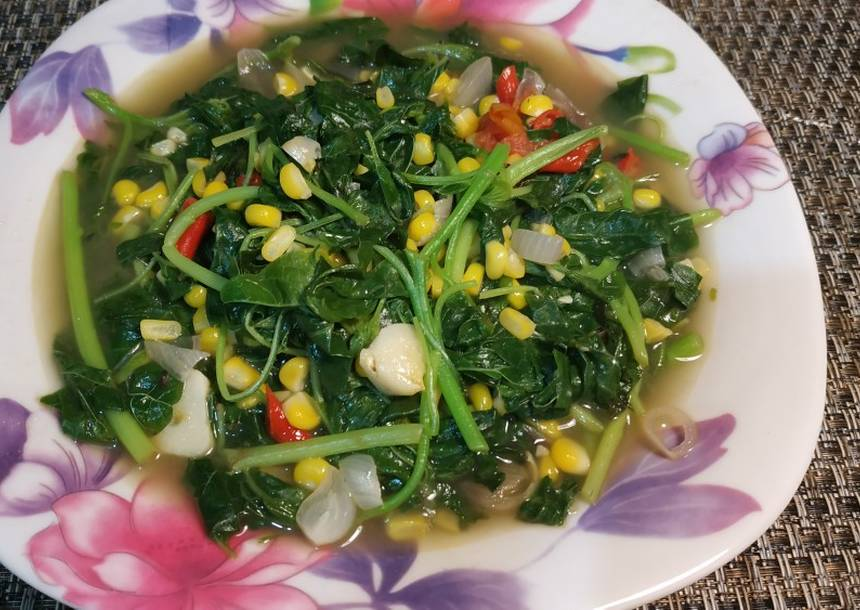Sayur Bayam: (75, 24, 756, 578)
